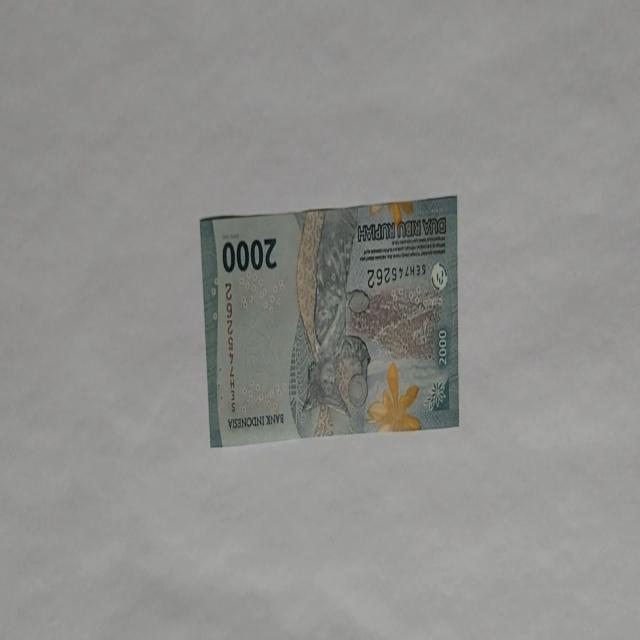dua ribu rupiah: (198, 194, 460, 448), (290, 206, 372, 437)
